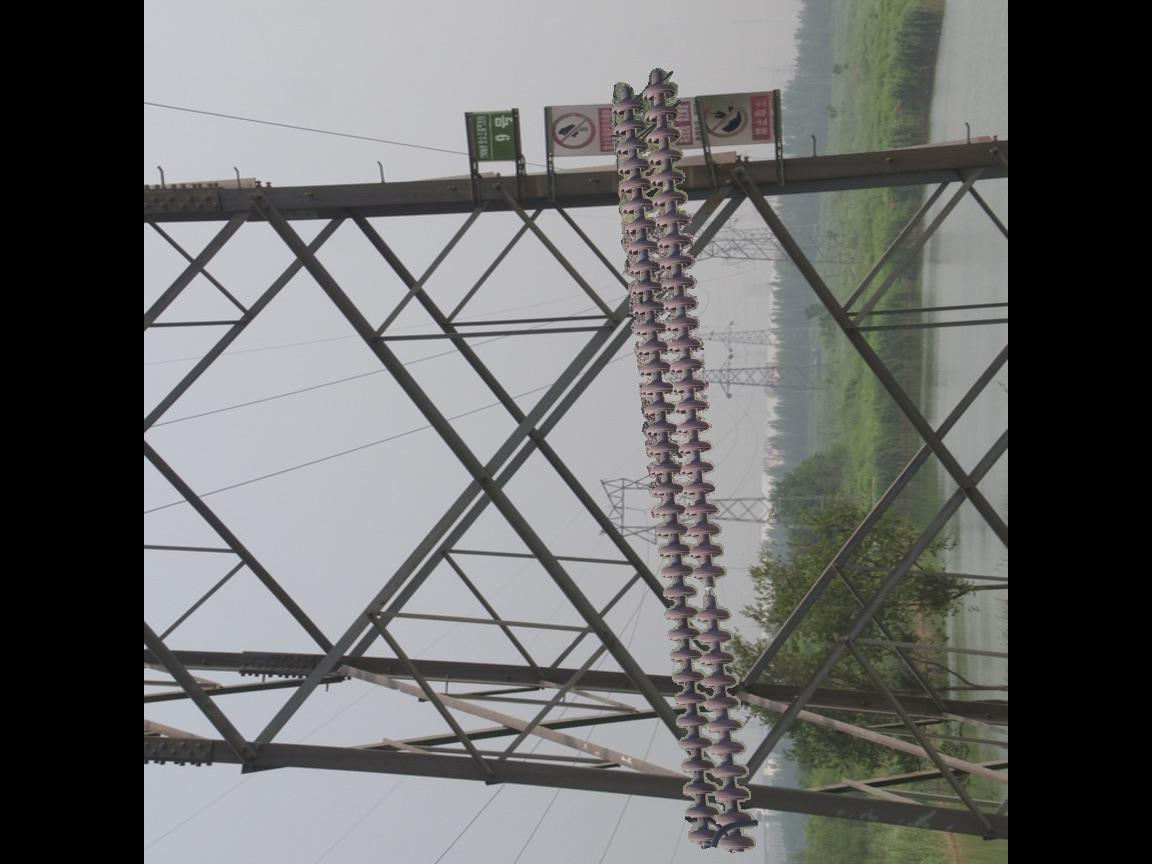insulator: (606, 76, 758, 852)
insulator_stringdrop: (689, 563, 734, 627)
